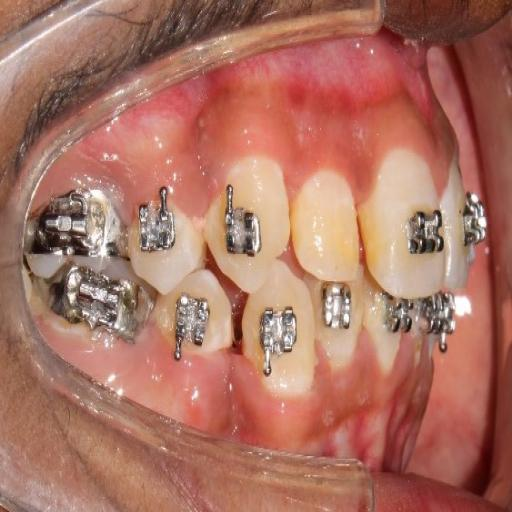correct_brace: (151, 270, 234, 378), (127, 177, 201, 293), (221, 181, 269, 259), (255, 306, 300, 382), (168, 289, 212, 362), (405, 196, 445, 268)
incorrect_brace: (135, 184, 180, 258)
